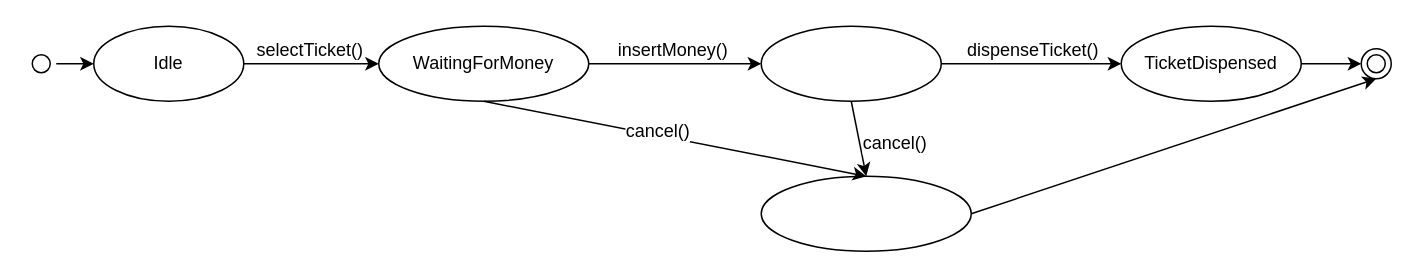
Image size: 1418x278. Some labels were removed from this diagram. The centre of each missing label's shape, as x and y in pixels:
"MoneyReceived" belongs at (x=850, y=63).
"TransactionCanceled" belongs at (x=865, y=213).
